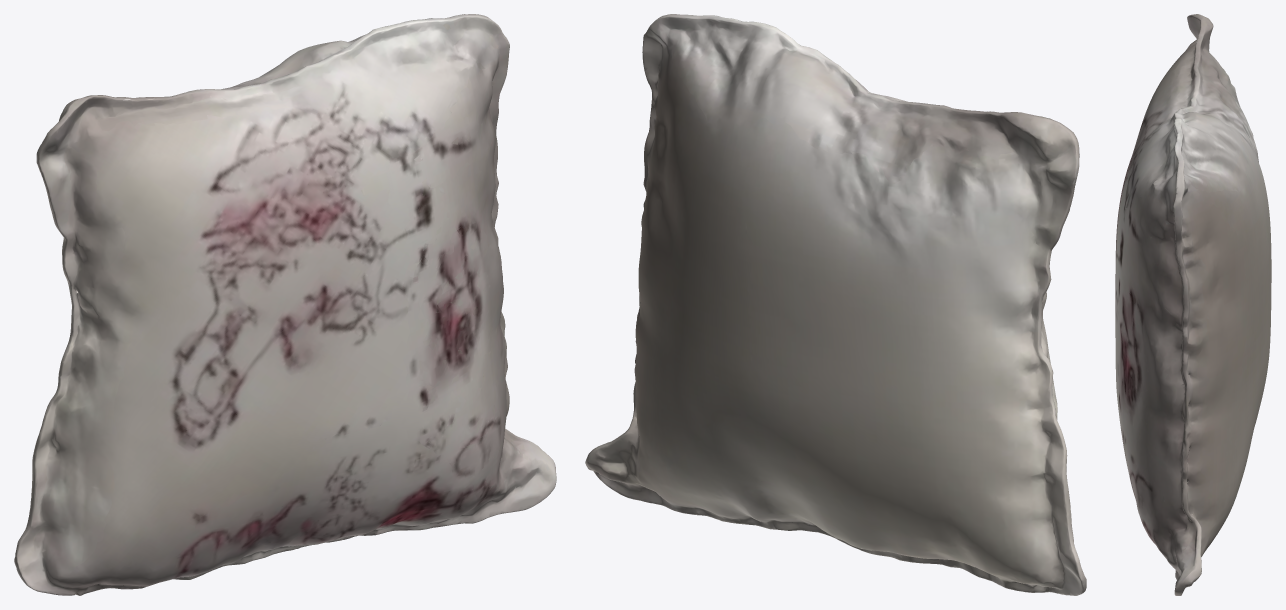
File: asset_pbr.glb
3 renders of one model, left to right at view 1: azimuth 30°, elevation 25°; view 2: azimuth 150°, elevation 25°; view 3: azimuth 270°, elevation 25°, orthographic. The views are drawn at different scales.
Parts seen in each view (by area): view 1: world; view 2: world; view 3: world.
Part boxes in pixels (box(x1,y1,x2,y2)): world: box(14, 14, 556, 595); world: box(585, 14, 1086, 595); world: box(1115, 14, 1271, 595).
Size of the model in its own units: 1 by 0.9474 by 0.3211.
1 material, 1 textured.
